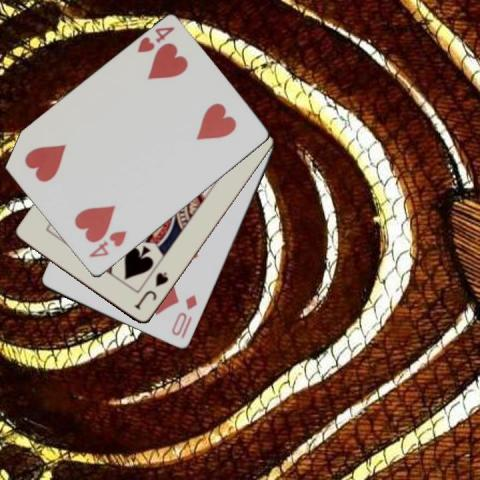10d: (168, 292, 198, 338)
4h: (133, 23, 176, 55), (86, 228, 129, 259)
Js: (131, 269, 170, 312)
